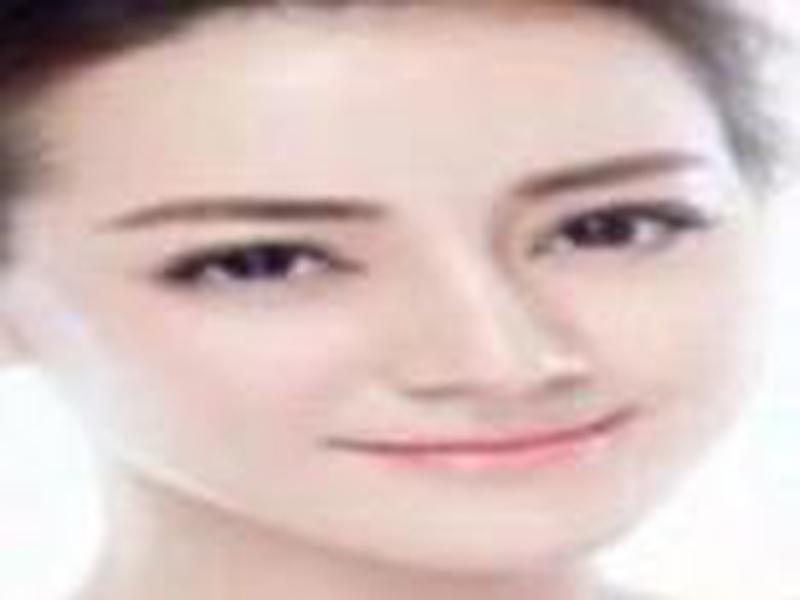without_mask: (25, 85, 761, 565)
